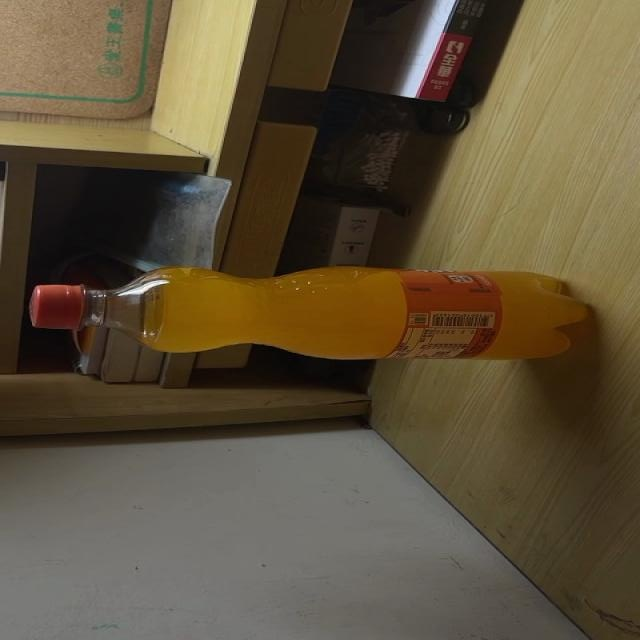Fanta: (30, 267, 592, 361)
